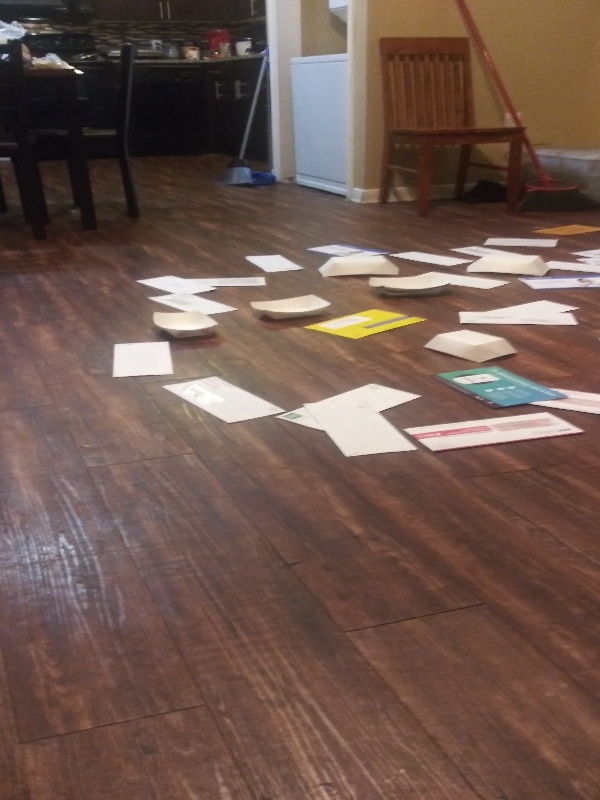plate: (419, 325, 520, 363), (244, 292, 336, 326), (144, 309, 224, 346), (367, 271, 456, 301), (317, 249, 403, 279), (458, 253, 550, 280)
